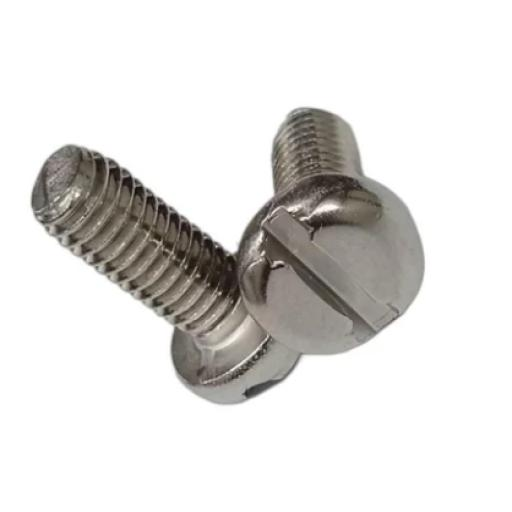Slotted: (238, 178, 427, 356)
